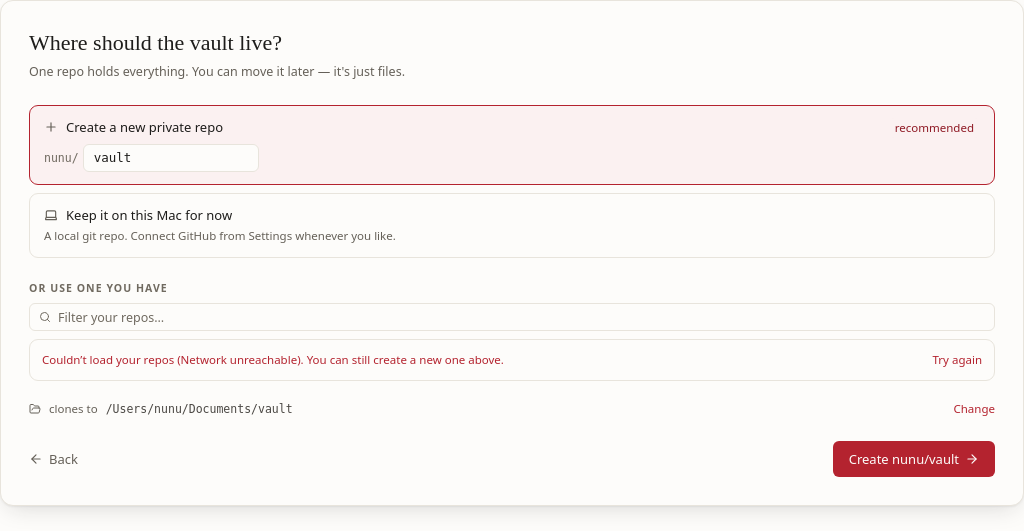
Scenario: RepoPicker — when the repo list fails › Try again asks again and shows the repos
The width and height of the screenshot is (1024, 531).
Expected: the text "Couldn’t load your repos" is shown, [42,352,181,367]
Click the button "Try again". click: (957, 360)
box: [932,352,982,368]
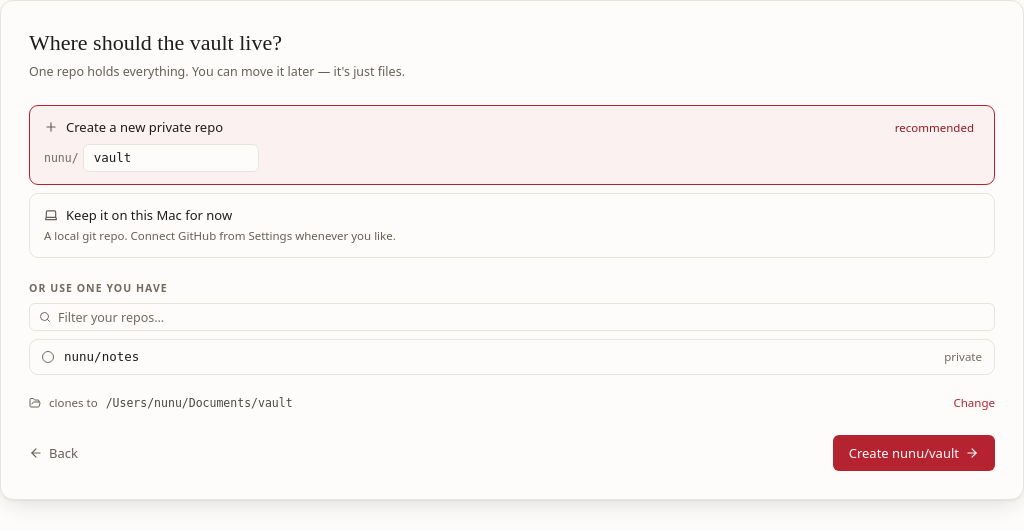
Now the text "nunu/notes" is shown, box [64,348,139,366]
Now the text "Couldn’t load your repos" is gone
